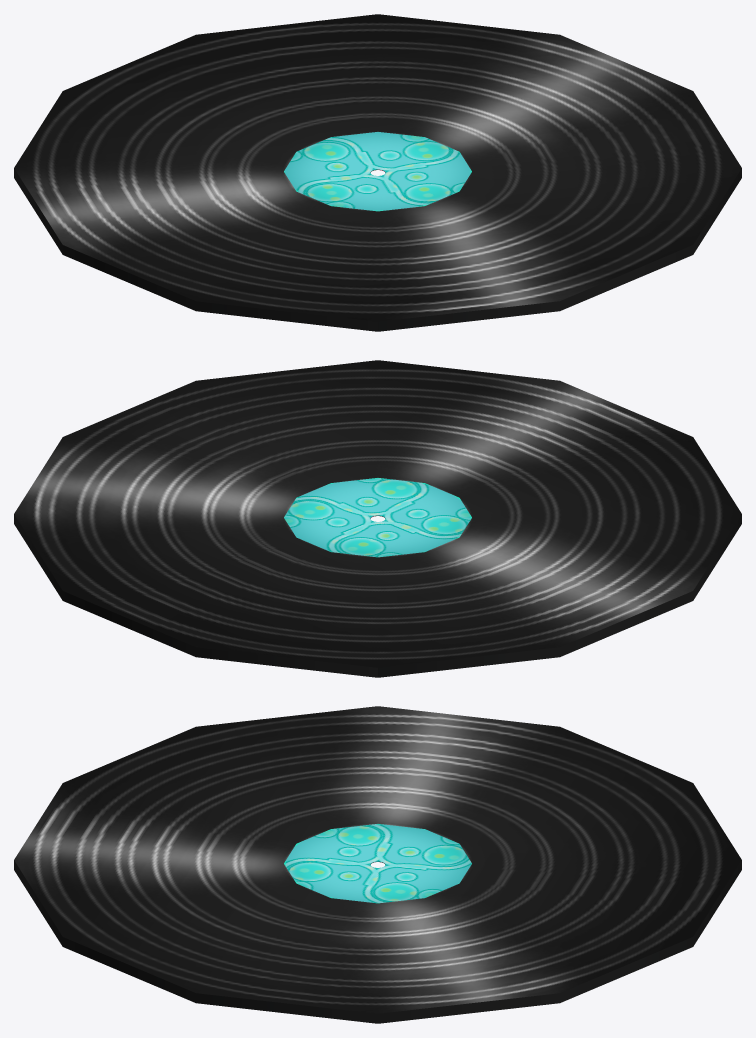
The model's file is Vinyl_06.FBX.
The picture shows the model from 3 angles, top to bottom: view 1: azimuth 30°, elevation 25°; view 2: azimuth 150°, elevation 25°; view 3: azimuth 270°, elevation 25°; orthographic projection.
Parts seen in each view (by area): view 1: Vinyl; view 2: Vinyl; view 3: Vinyl.
Boxes of the visible parts, x1,y1,x2,y2 form: Vinyl: (14, 14, 741, 331); Vinyl: (14, 360, 741, 677); Vinyl: (14, 706, 741, 1023).
Bounding box in the file's own units: 147 × 2.23 × 147.
